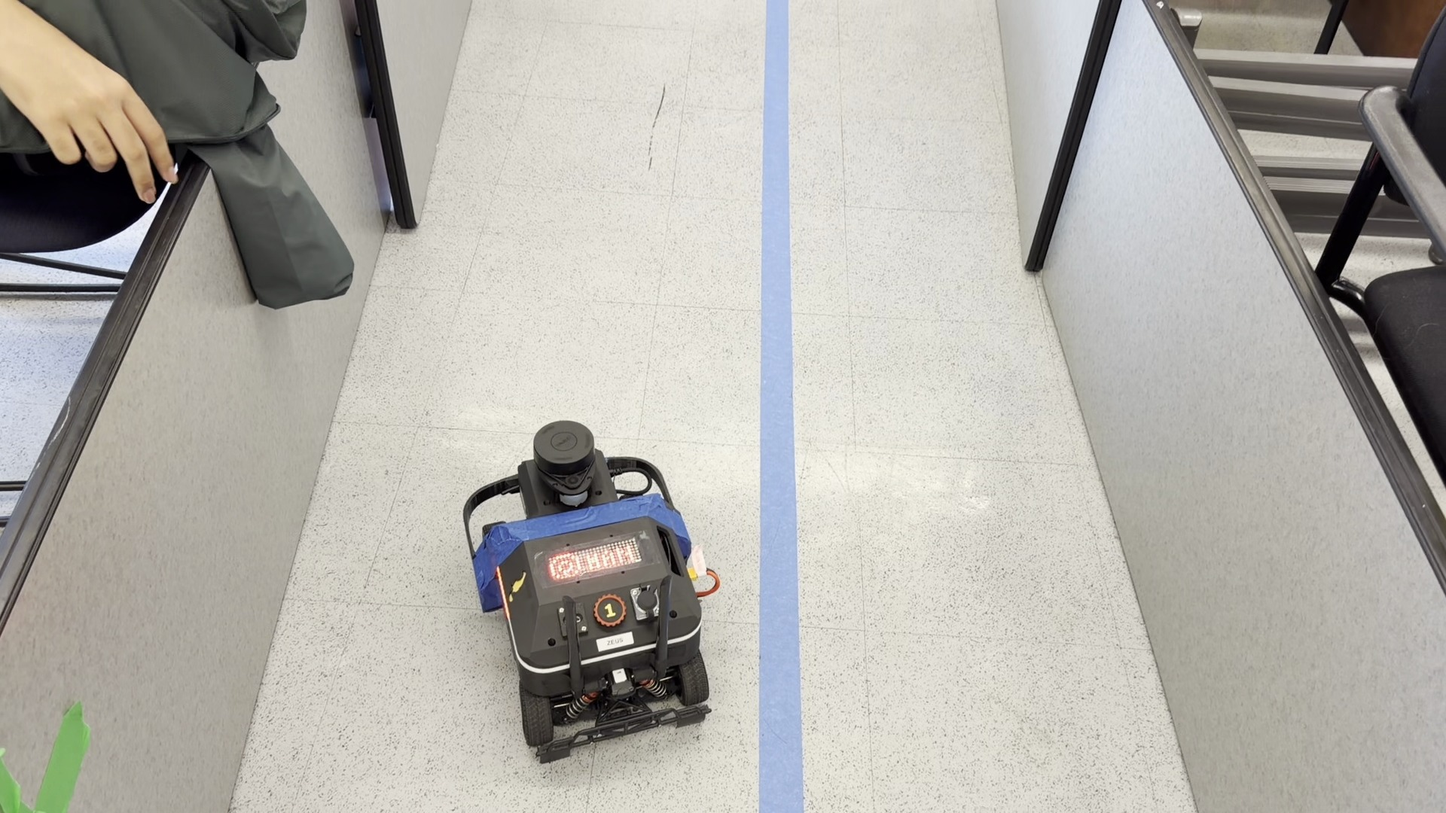racecar: (463, 417, 722, 760)
